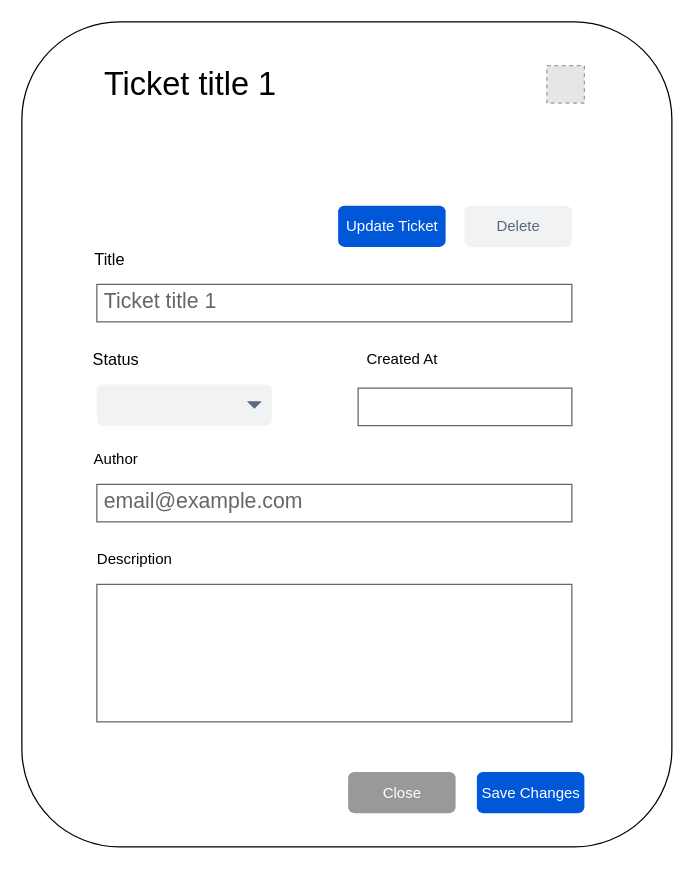
Some shapes in this 694 by 869 pixel diagram are drawn without their labels. Grey dashed boxes stand in for pictures. The centre of each missing label's shape, as x and y in pixels:
"Date / Time" belongs at point 464,406.
"Long description of ticket (textarea)" belongs at point 334,652.
"New" belongs at point 183,404.
